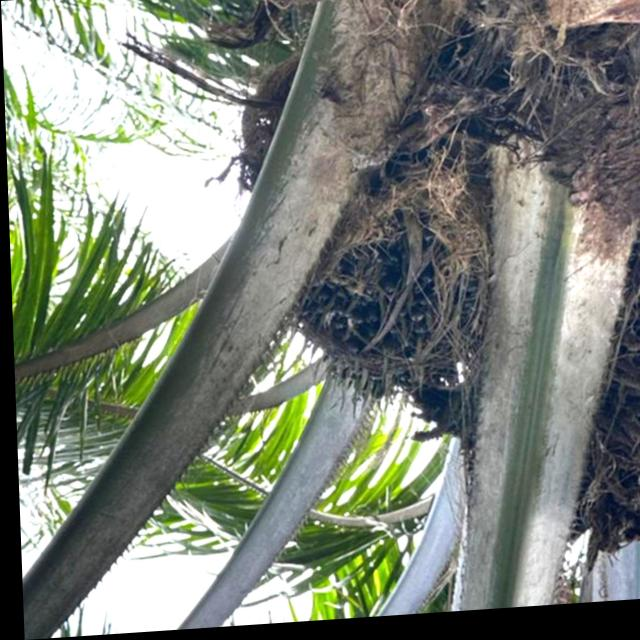almost: (271, 188, 486, 433)
